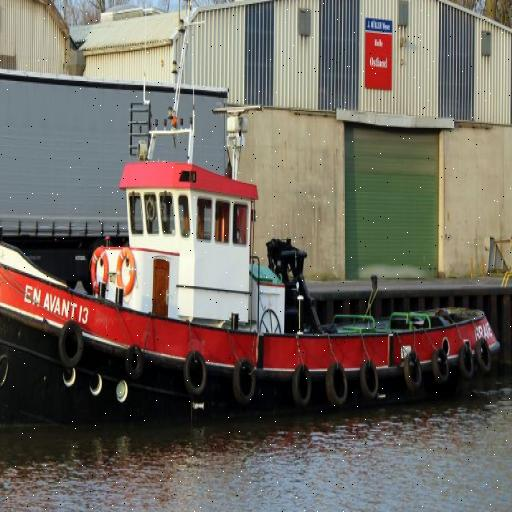tugboat: (1, 100, 505, 475)
